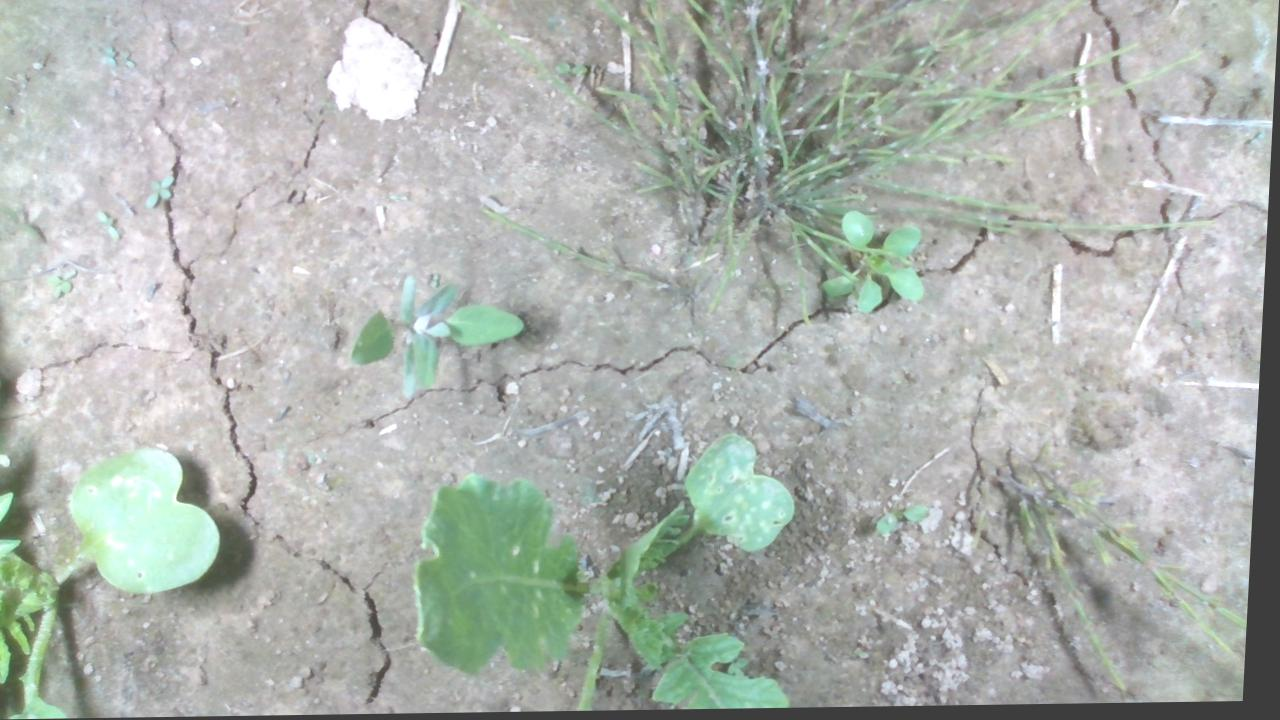weed: (878, 503, 935, 540), (144, 172, 177, 211), (94, 207, 124, 246), (49, 264, 80, 300)
